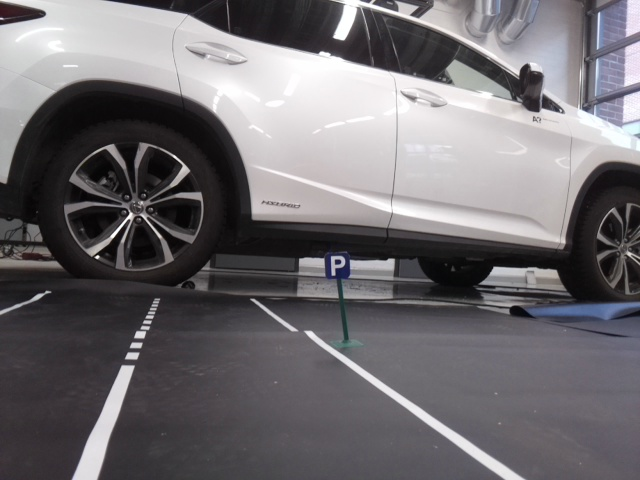Parking: (323, 251, 349, 280)
